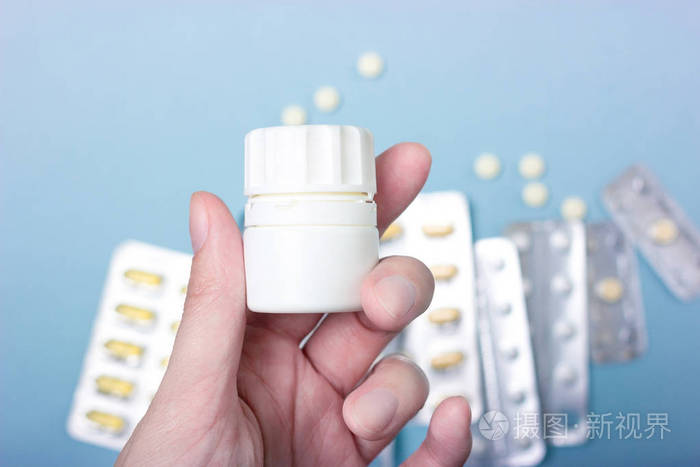no-phone: (114, 121, 477, 467)
